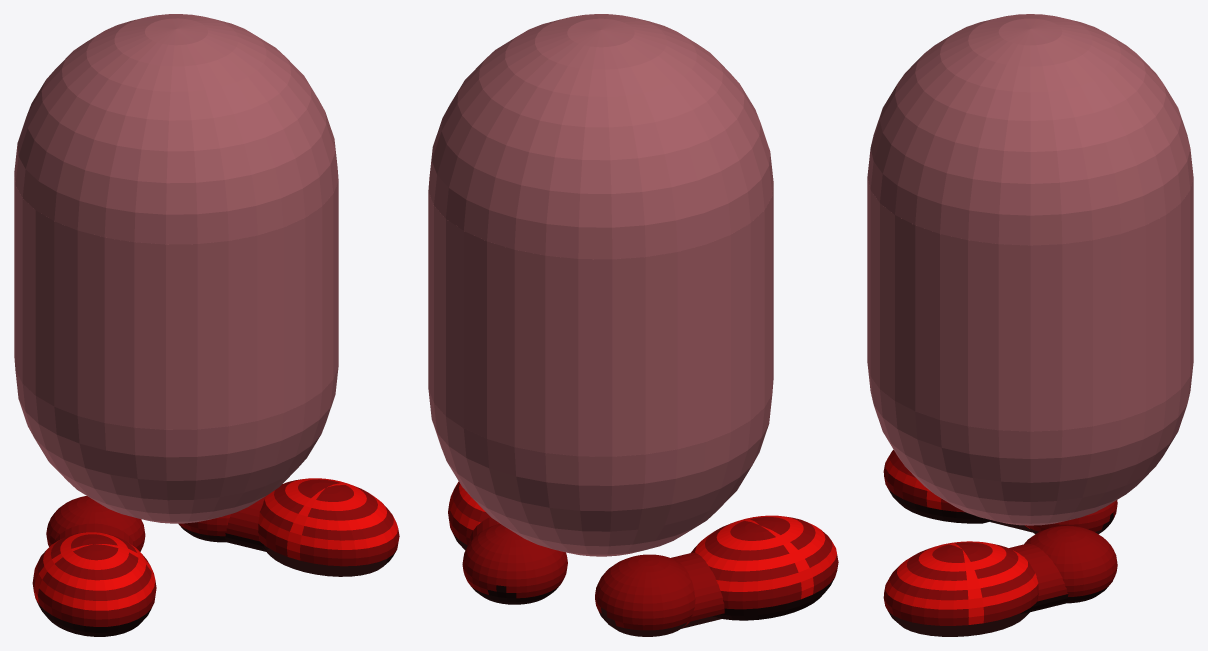
The model's file is Chracter right way.glb.
The picture shows the model from 3 angles, left to right: view 1: azimuth 30°, elevation 25°; view 2: azimuth 150°, elevation 25°; view 3: azimuth 270°, elevation 25°; orthographic projection. The views are drawn at different scales.
Visible parts, largest first — view 1: Body; view 2: Body; view 3: Body.
Part boxes in pixels (<box>): Body: <box>14,14,399,636</box>; Body: <box>428,14,838,636</box>; Body: <box>867,14,1193,636</box>.
Size of the model in its own units: 2.43 by 3.58 by 2.
